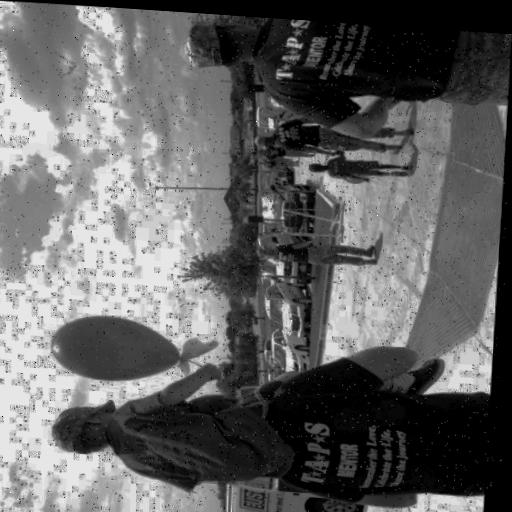balloon: (52, 311, 187, 384), (344, 172, 368, 186), (249, 154, 264, 161)
